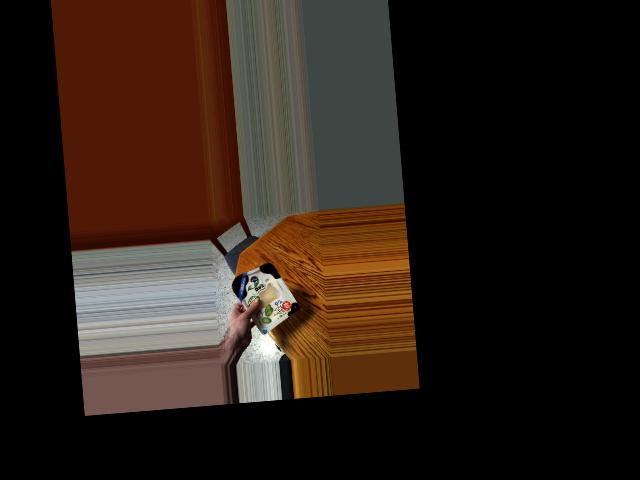cheese: (231, 262, 296, 328)
